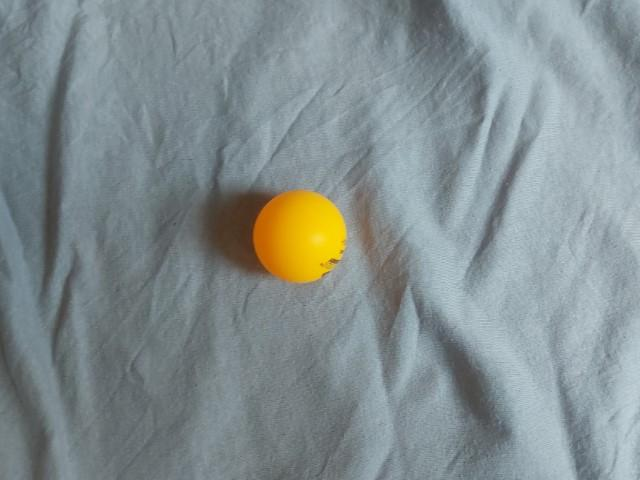oball: (279, 191, 395, 298)
